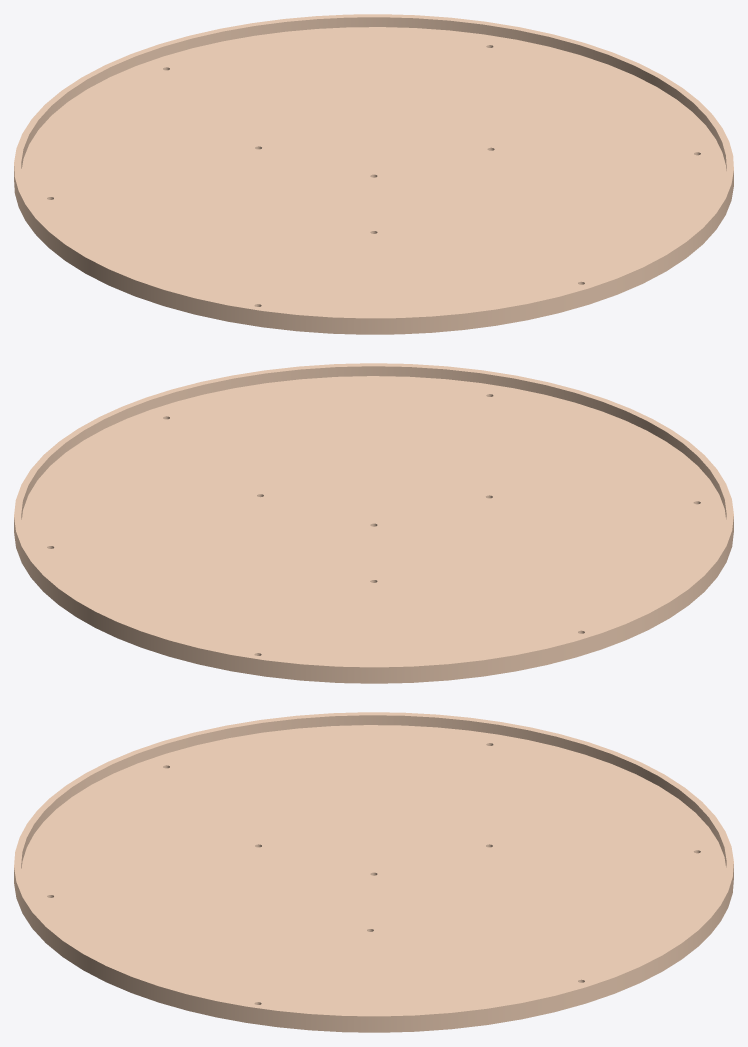
The model's file is SPBA-TEAR-10-Gold.glb.
3 views of the same model, one above another, from view 1: azimuth 30°, elevation 25°; view 2: azimuth 150°, elevation 25°; view 3: azimuth 270°, elevation 25° (orthographic).
Parts seen in each view (by area): view 1: Mesh_1.007, Mesh_0.009; view 2: Mesh_1.007, Mesh_0.009; view 3: Mesh_1.007, Mesh_0.009.
Part boxes in pixels (x1,y1,x2,y2): Mesh_1.007: (21,27,726,315); Mesh_0.009: (14,14,733,334); Mesh_1.007: (21,376,725,664); Mesh_0.009: (14,363,733,683); Mesh_1.007: (21,725,726,1013); Mesh_0.009: (14,712,733,1032).
Bounding box in the file's own units: 0.9999 × 0.025 × 0.9999.
